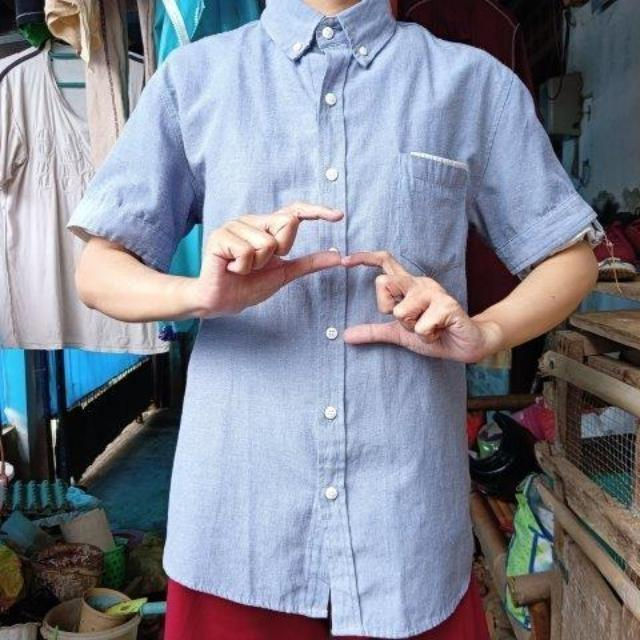S: (239, 178, 447, 358)
